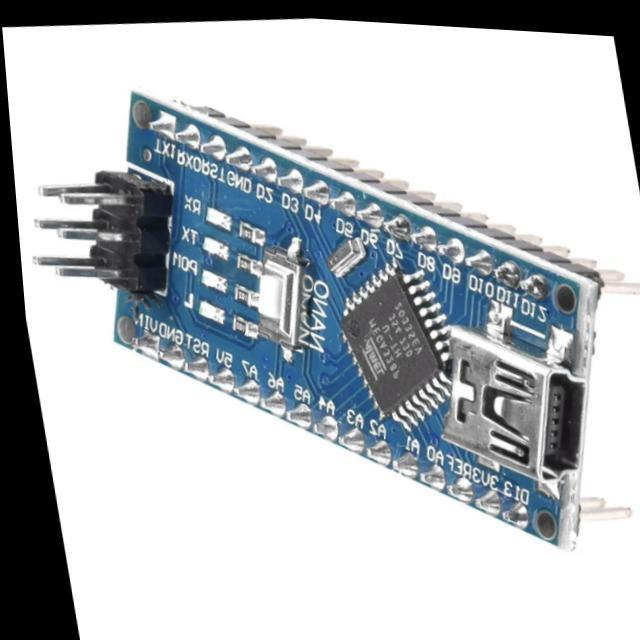Arduino-Nano: (35, 92, 604, 550)
